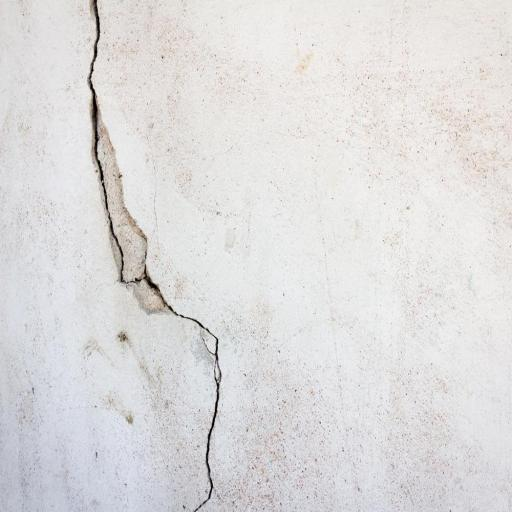spalling: (83, 4, 227, 509)
